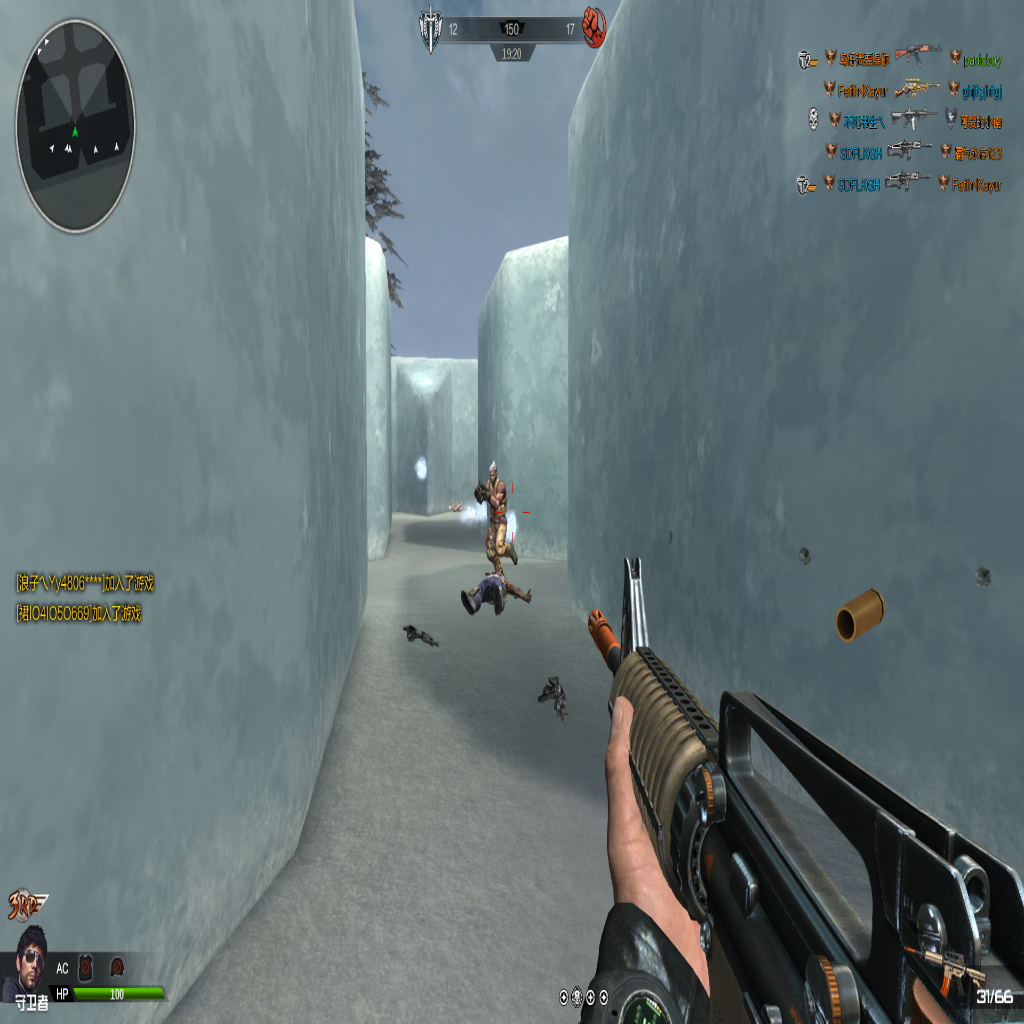tt: (474, 464, 511, 572)
